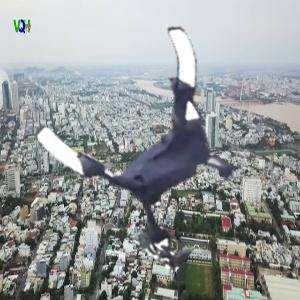drone: (60, 36, 260, 236)
